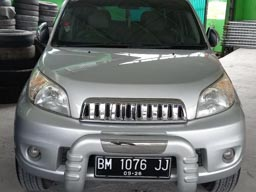plat: (96, 155, 170, 171)
